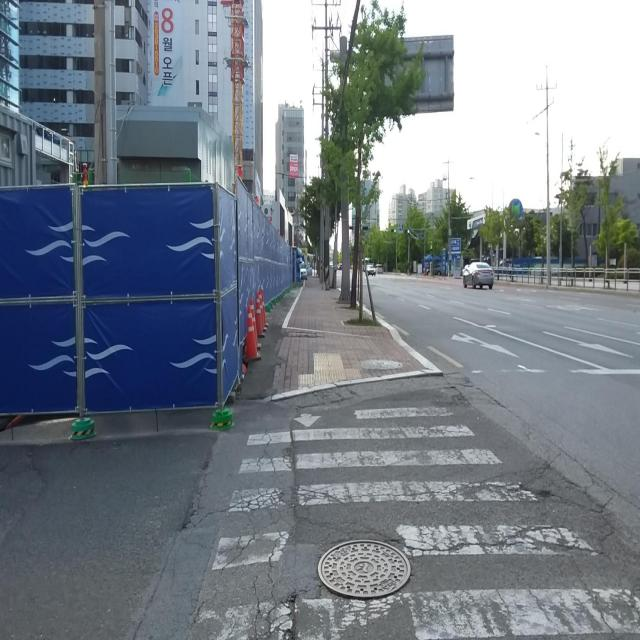횡단보도: (194, 403, 640, 639)
